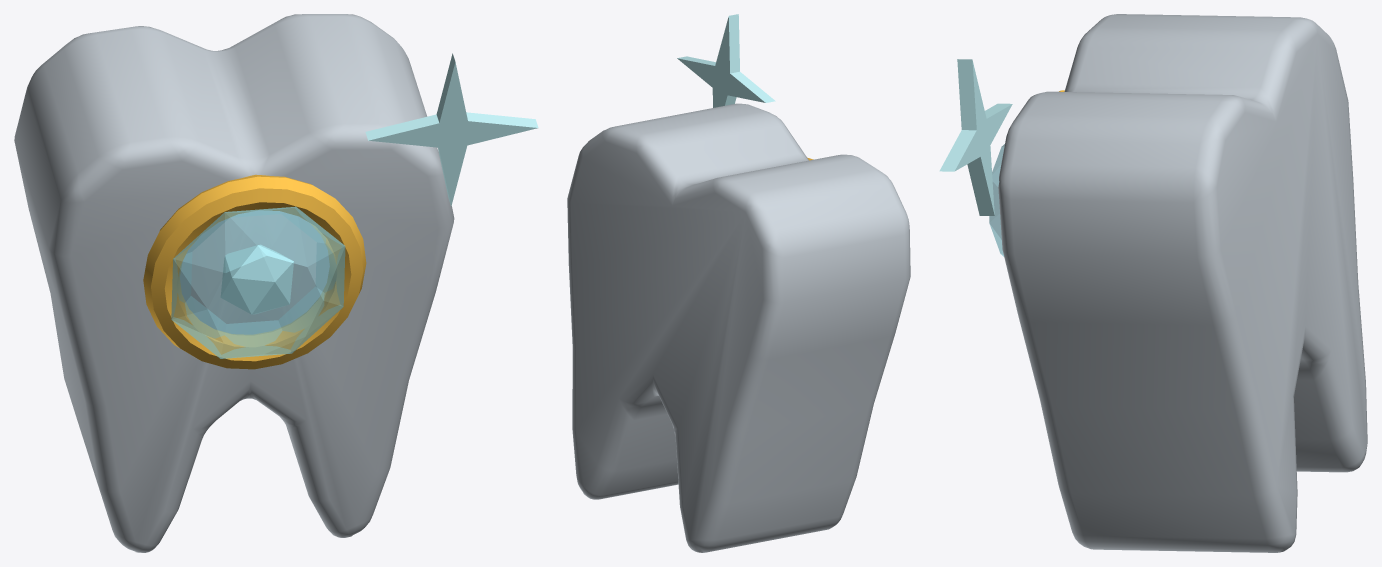
The model's file is DiamondTooth.fbx.
The picture shows the model from 3 angles, left to right: view 1: azimuth 30°, elevation 25°; view 2: azimuth 150°, elevation 25°; view 3: azimuth 270°, elevation 25°; orthographic projection. The views are drawn at different scales.
Parts seen in each view (by area): view 1: DiamondTooth_Body, DiamondTooth_Glass, DiamondTooth_Trim, DiamondTooth_Neon; view 2: DiamondTooth_Body, DiamondTooth_Neon; view 3: DiamondTooth_Body, DiamondTooth_Neon, DiamondTooth_Glass.
Boxes of the visible parts, box(x1,y1,x2,y2) form: DiamondTooth_Body: box(14, 14, 454, 552); DiamondTooth_Glass: box(171, 206, 345, 358); DiamondTooth_Trim: box(143, 174, 366, 369); DiamondTooth_Neon: box(220, 53, 538, 314); DiamondTooth_Body: box(567, 103, 910, 552); DiamondTooth_Neon: box(677, 14, 775, 107); DiamondTooth_Body: box(998, 14, 1367, 552); DiamondTooth_Neon: box(939, 59, 1012, 215); DiamondTooth_Glass: box(989, 144, 1004, 256).
Size of the model in its own units: 2.4 by 3 by 2.28.
